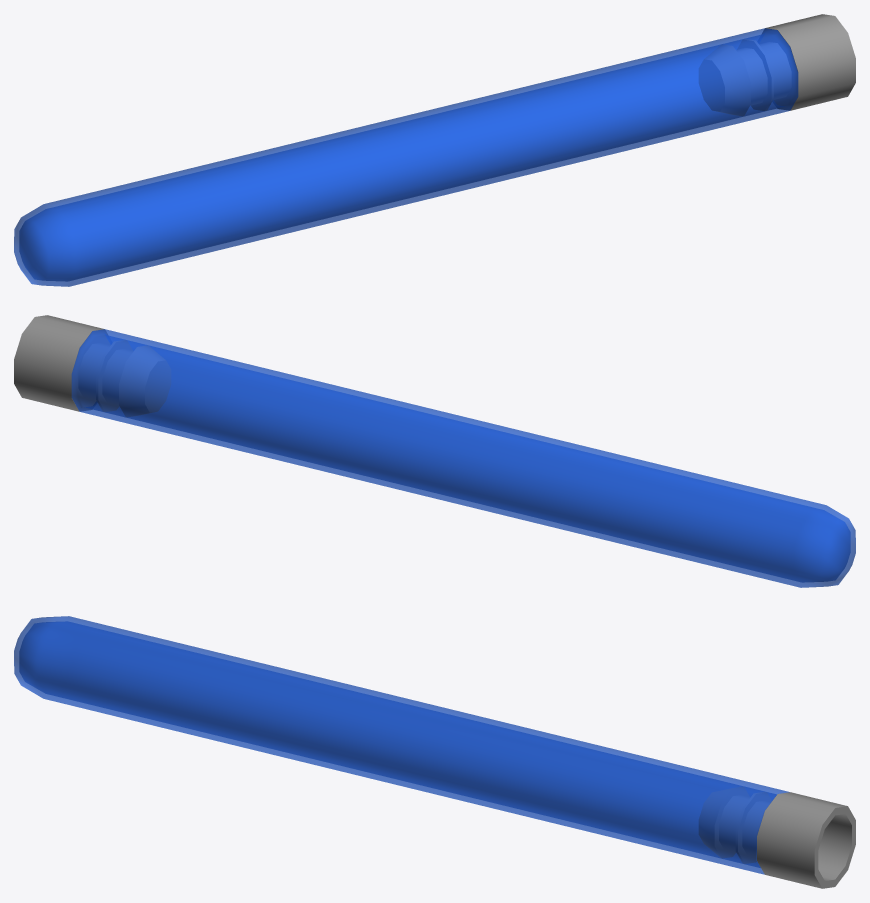
The model's file is SM_Layed_Test_Tube_LOD0.FBX.
3 views of the same model, one above another, from view 1: azimuth 30°, elevation 25°; view 2: azimuth 150°, elevation 25°; view 3: azimuth 330°, elevation 25° (orthographic).
Parts seen in each view (by area): view 1: SM_Empty_Laying_Test_Tube01; view 2: SM_Empty_Laying_Test_Tube01; view 3: SM_Empty_Laying_Test_Tube01.
Boxes of the visible parts, x1=… form: SM_Empty_Laying_Test_Tube01: x1=14, y1=14, x2=855, y2=286; SM_Empty_Laying_Test_Tube01: x1=14, y1=315, x2=855, y2=587; SM_Empty_Laying_Test_Tube01: x1=14, y1=616, x2=855, y2=888.
Size of the model in its own units: 0.1721 by 0.016 by 0.0152.
